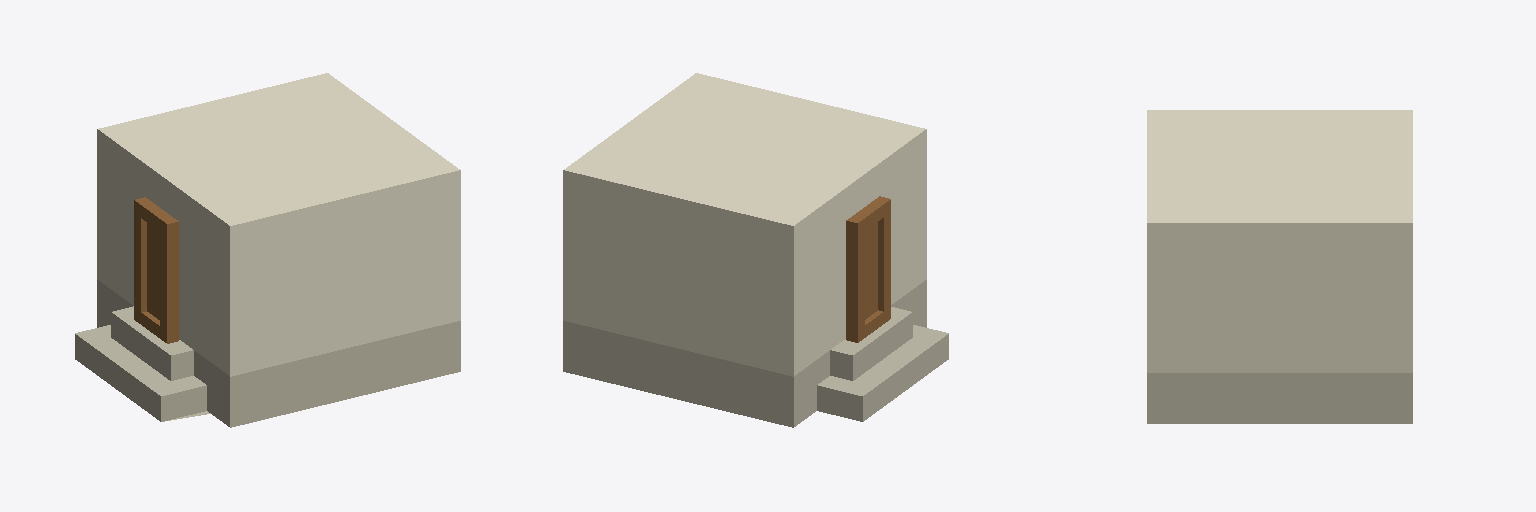
Rendered from modularBuildings_026a.obj.
3 renders of one model, left to right at view 1: azimuth 30°, elevation 25°; view 2: azimuth 150°, elevation 25°; view 3: azimuth 270°, elevation 25°, orthographic.
Visible parts, largest first — view 1: Mesh1_Group1_Model.001; view 2: Mesh1_Group1_Model.001; view 3: Mesh1_Group1_Model.001.
Part boxes in pixels (bbox=[...]): Mesh1_Group1_Model.001: bbox=[75, 73, 460, 427]; Mesh1_Group1_Model.001: bbox=[563, 73, 948, 427]; Mesh1_Group1_Model.001: bbox=[1147, 110, 1412, 423].
Bounding box in the file's own units: 1.2 × 0.8375 × 1.